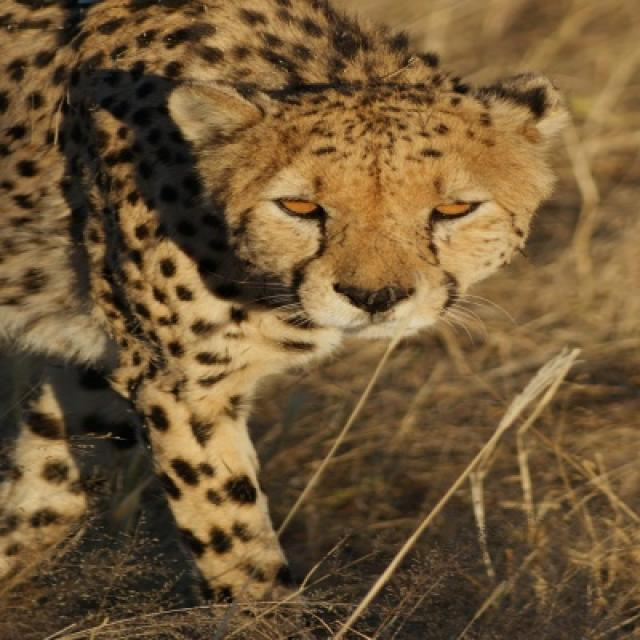Cheetah: (1, 3, 572, 617)
